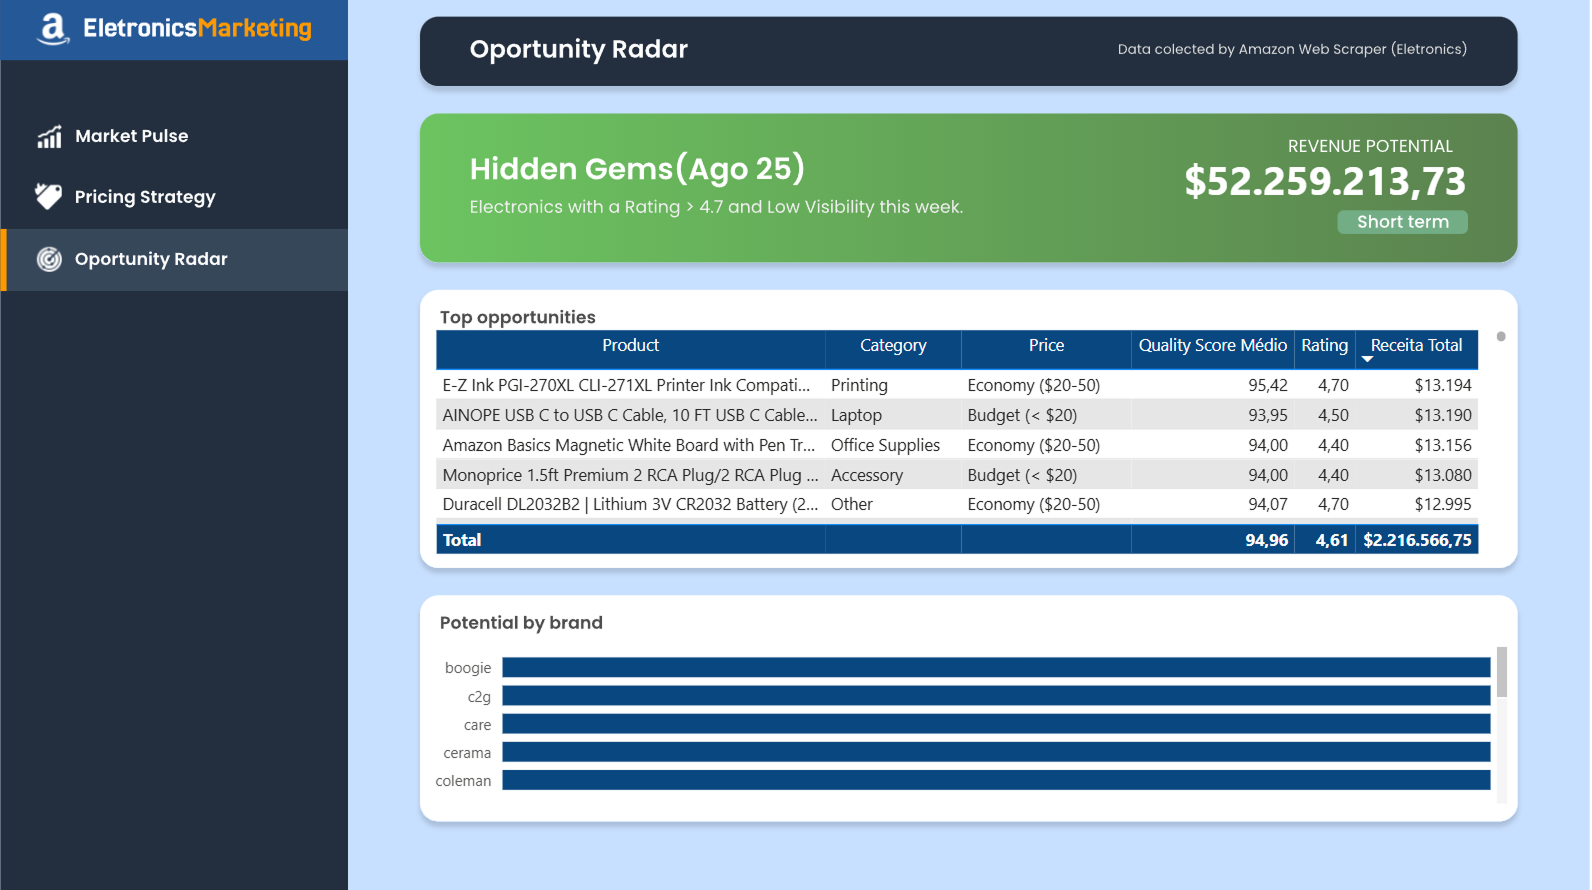

The dashboard page shown, as its layout file describes it:
{"tool":"powerbi","page":{"name":"Página 3","canvas":[1280,720],"ordinal":3},"visuals":[{"type":"group","id":"g1","title":"Grupo 1","box":[0,75.6,277.8,163.3],"z":0},{"type":"actionButton","title":"Botão 3","box":[0,184.5,277.8,54.4],"z":0,"group":"g1"},{"type":"card","fields":{"Values":["# Medidas.Potencial de Receita (Hidden Gems)"]},"box":[941.4,110,252.1,69.3],"z":1000},{"type":"actionButton","title":"Botão 2","box":[0,130,277.8,54.4],"z":1000,"group":"g1"},{"type":"actionButton","title":"Botão 1","box":[0,75.6,277.8,54.4],"z":2000,"group":"g1"},{"type":"tableEx","fields":{"Values":["dProduct.titulo","dCategory.categoria","dProduct.faixa_preco","# Medidas.Quality Score Médio","# Medidas.Rating Médio","# Medidas.Receita Total"]},"box":[345.3,260.7,873.4,189.7],"z":2000},{"type":"clusteredBarChart","fields":{"Category":["dProduct.marca"],"Y":["# Medidas.É Hidden Gem"]},"box":[320,507.7,898.7,144.9],"z":3000},{"type":"actionButton","box":[1232.3,18.5,47.7,39.9],"z":3001}]}

Visuals, with their boxes on the page's 1280x720 design canvas (x1, y1, x2, y2). These are canvas units, not pixel positions in the 1592x890 screenshot, which may show the page scaled, cropped or inside an application window:
"Grupo 1" group: 0:76:278:239
"Botão 3" actionButton: 0:184:278:239
card - # Medidas.Potencial de Receita (Hidden Gems): 941:110:1194:179
"Botão 2" actionButton: 0:130:278:184
"Botão 1" actionButton: 0:76:278:130
tableEx - dProduct.titulo x dCategory.categoria: 345:261:1219:450
clusteredBarChart - dProduct.marca x # Medidas.É Hidden Gem: 320:508:1219:653
actionButton: 1232:18:1280:58
